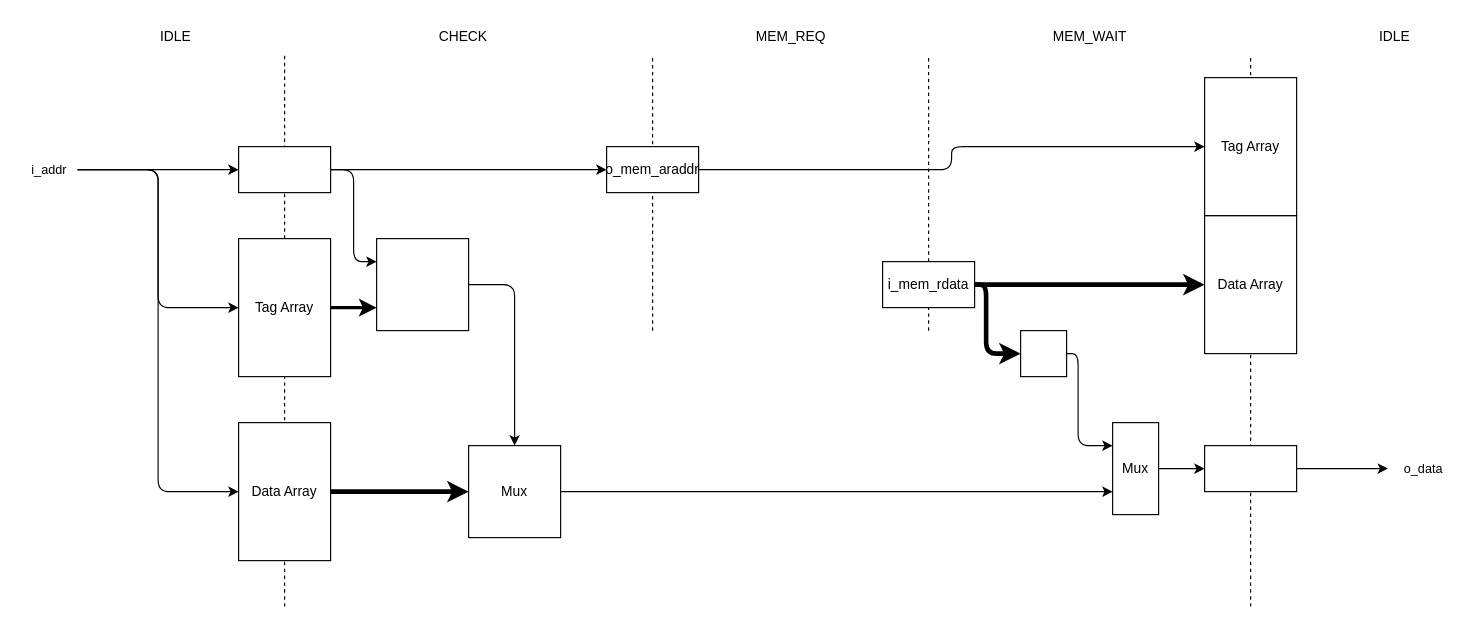
Some shapes in this 1477 by 628 pixel diagram are drawn without their labels. The shapes that lost their labels are listed below. From the top down, each one's centre as x and y in pixels, then its label:
At point 284,169: "r_addr".
At point 422,284: "Comparator".
At point 1043,353: "Selector".
At point 1250,468: "o_cpu_rdata".
